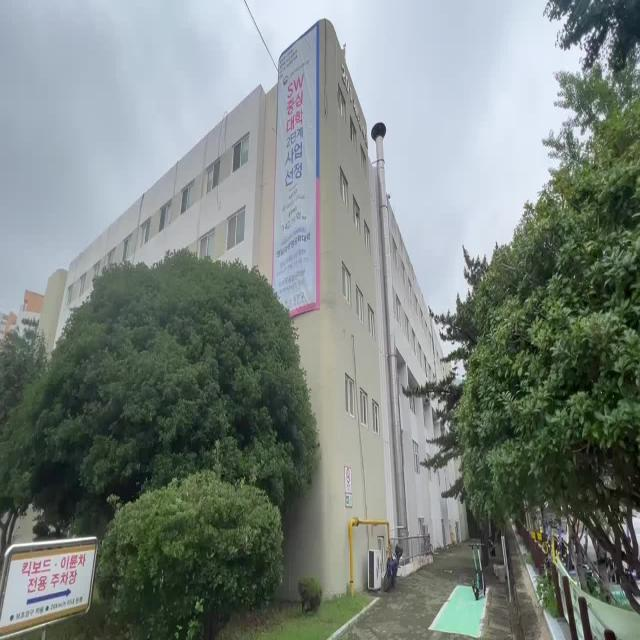building: (187, 21, 432, 331)
